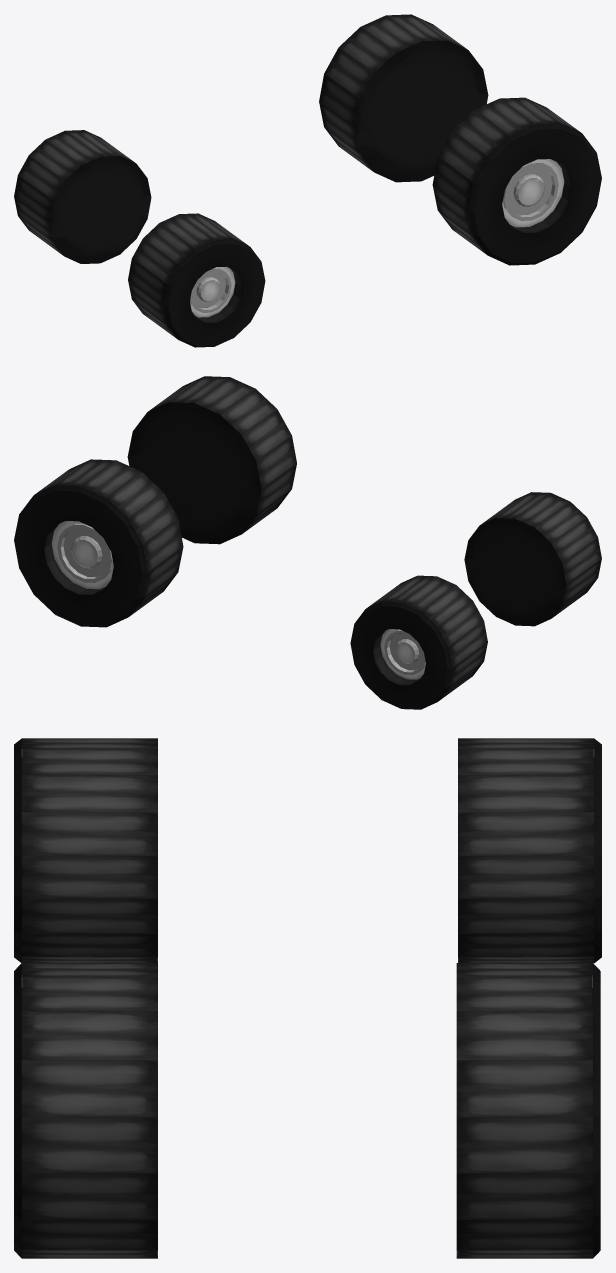
File: Wheels.fbx
3 views of the same model, one above another, from view 1: azimuth 30°, elevation 25°; view 2: azimuth 150°, elevation 25°; view 3: azimuth 270°, elevation 25° (orthographic). The views are drawn at different scales.
Parts seen in each view (by area): view 1: FrontWheel_01, BackWheel_02, FrontWheel_02, BackWheel_01; view 2: BackWheel_02, FrontWheel_01, BackWheel_01, FrontWheel_02; view 3: BackWheel_02, FrontWheel_01, FrontWheel_02, BackWheel_01.
Boxes of the visible parts, x1,y1,x2,y2 form: FrontWheel_01: [432, 97, 601, 265]; BackWheel_02: [319, 14, 488, 182]; FrontWheel_02: [14, 130, 151, 263]; BackWheel_01: [128, 213, 265, 347]; BackWheel_02: [14, 459, 183, 627]; FrontWheel_01: [127, 376, 296, 544]; BackWheel_01: [464, 492, 601, 626]; FrontWheel_02: [350, 575, 487, 709]; BackWheel_02: [456, 963, 600, 1258]; FrontWheel_01: [14, 963, 157, 1258]; FrontWheel_02: [458, 738, 601, 963]; BackWheel_01: [14, 738, 157, 962].
Size of the model in its own units: 176 by 55.38 by 107.
